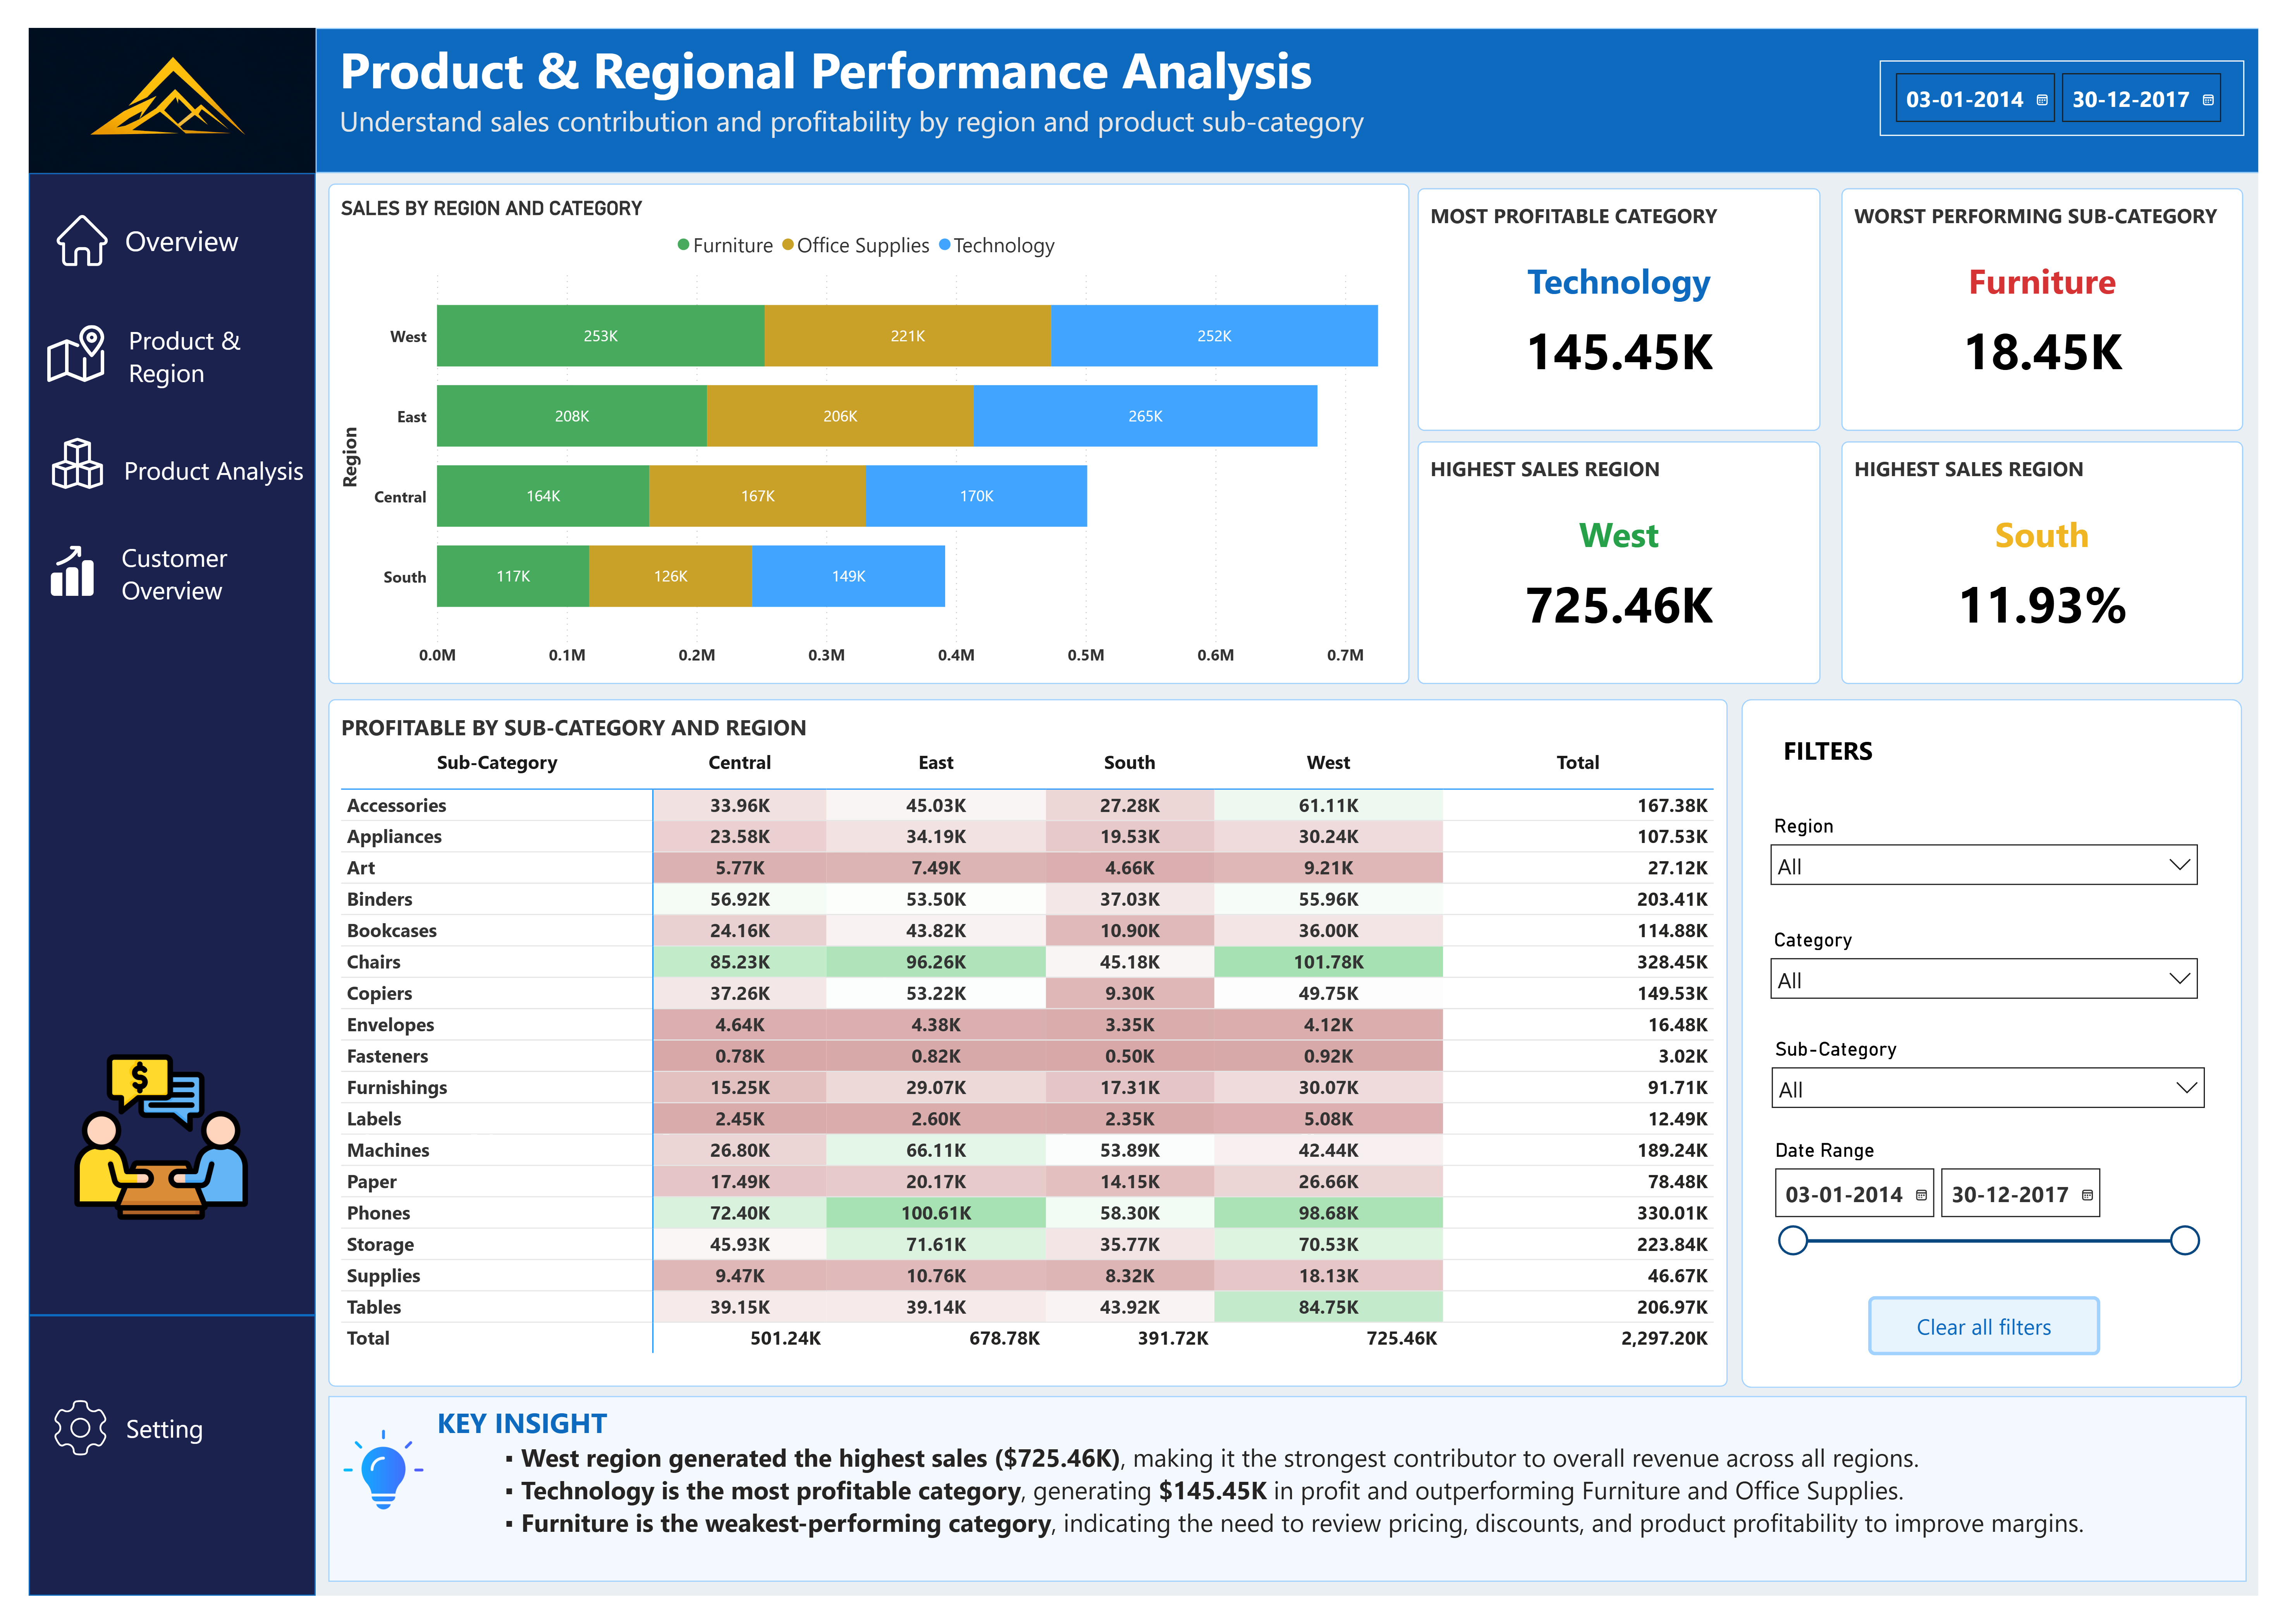

The dashboard page shown, as its layout file describes it:
{"tool":"powerbi","page":{"name":"ProductRegionalAnalysis","canvas":[1920,1350],"ordinal":1},"visuals":[{"type":"textbox","box":[247.2,0,1673.9,125.4],"z":0},{"type":"image","box":[7.2,256.4,67.2,49.1],"z":0,"group":"g2"},{"type":"image","box":[4,352.8,76.3,43.6],"z":0,"group":"g4"},{"type":"image","box":[5.5,443.5,65.4,49.1],"z":0,"group":"g3"},{"type":"textbox","box":[258.1,1178.3,1652.1,159.9],"z":0,"group":"g1"},{"type":"textbox","box":[81.3,249.1,172.7,76.3],"z":1000,"group":"g2"},{"type":"textbox","box":[76.7,360.7,174.5,56.3],"z":1000,"group":"g4"},{"type":"textbox","box":[76,436.2,171.2,85.4],"z":1000,"group":"g3"},{"type":"shape","box":[1475.4,578.1,430.4,592.7],"z":1000},{"type":"image","box":[266,1202,79.1,79.1],"z":1000,"group":"g1"},{"type":"barChart","title":"SALES BY REGION AND CATEGORY","fields":{"Y":["Sum(Superstore.Sales)"],"Category":["Superstore.Region"],"Series":["Superstore.Category"]},"box":[258.1,134.5,930.5,430.7],"z":2000},{"type":"slicer","fields":{"Values":["Superstore.Order Date"]},"box":[1490.8,951,387.5,160.2],"z":3000},{"type":"pivotTable","title":"PROFITABLE BY SUB-CATEGORY AND REGION","fields":{"Rows":["Superstore.Sub-Category"],"Columns":["Superstore.Region"],"Values":["Sum(Superstore.Sales)"]},"box":[258.1,578,1205,592.5],"z":4000},{"type":"cardVisual","title":"MOST PROFITABLE CATEGORY","fields":{"Data":["Sum(Superstore.Profit)"],"Rows":["Superstore.Category"]},"box":[1195.9,138.1,347.1,209],"z":5000},{"type":"cardVisual","title":"HIGHEST SALES REGION","fields":{"Data":["Sum(Superstore.Sales)"],"Rows":["Superstore.Region"]},"box":[1195.9,356.2,347.1,209],"z":6000},{"type":"cardVisual","title":"WORST PERFORMING SUB-CATEGORY","fields":{"Data":["Sum(Superstore.Profit)"],"Rows":["Superstore.Category"]},"box":[1561.2,138.1,345.3,209],"z":7000},{"type":"cardVisual","title":"HIGHEST SALES REGION","fields":{"Data":["Superstore.Profit Margin %"],"Rows":["Superstore.Region"]},"box":[1561.2,356.2,345.3,209],"z":8000},{"type":"image","box":[0,0,247.2,125.4],"z":9000},{"type":"slicer","fields":{"Values":["Superstore.Sub-Category"]},"box":[1490.8,864,393.5,83],"z":10000},{"type":"image","box":[6,161.3,80,43.6],"z":11000,"group":"g5"},{"type":"group","id":"g1","title":"Group 8","box":[258.1,1178.3,1652.1,159.9],"z":11000},{"type":"shape","box":[0,125,247.2,1225],"z":12000},{"type":"textbox","box":[77.5,161.5,145,49],"z":12002,"group":"g5"},{"type":"group","id":"g2","title":"Group 2","box":[7.2,249.1,246.8,76.3],"z":13000},{"type":"group","id":"g3","title":"Group 4","box":[5.5,436.2,241.7,85.4],"z":14000},{"type":"group","id":"g4","title":"Group 4","box":[4,352.8,247.2,64.2],"z":15000},{"type":"group","id":"g5","title":"Group 5","box":[6,161.3,216.5,49.2],"z":16000},{"type":"slicer","fields":{"Values":["Superstore.Region"]},"box":[1490.1,672.3,387.9,92.7],"z":17000},{"type":"slicer","fields":{"Values":["Superstore.Order Date"]},"box":[1593.6,27.7,314.4,65.2],"z":18000},{"type":"image","box":[19.8,879.8,187.8,150.3],"z":19000},{"type":"image","box":[19.8,1166.5,49.4,77.1],"z":20000},{"type":"textbox","box":[1506.1,602.4,155.9,74.7],"z":21000},{"type":"textbox","box":[73.2,1186.3,152.2,51.4],"z":22000},{"type":"shape","box":[0,1079.5,247.1,57.3],"z":23000},{"type":"slicer","fields":{"Values":["Superstore.Category"]},"box":[1490.1,770.4,387.9,86.9],"z":24000},{"type":"actionButton","box":[1584.3,1092.2,199.8,51.2],"z":25000}]}

Visuals, with their boxes in screenshot pixels (x1, y1, x2, y2), scaled from the page's 1920x1350 canvas onto the 2287x1624 screenshot:
textbox: (x1=294, y1=0, x2=2287, y2=151)
image: (x1=9, y1=308, x2=89, y2=368)
image: (x1=5, y1=425, x2=96, y2=477)
image: (x1=7, y1=533, x2=84, y2=593)
textbox: (x1=308, y1=1418, x2=2275, y2=1610)
textbox: (x1=97, y1=300, x2=303, y2=391)
textbox: (x1=91, y1=434, x2=299, y2=502)
textbox: (x1=91, y1=525, x2=294, y2=628)
shape: (x1=1757, y1=695, x2=2270, y2=1409)
image: (x1=317, y1=1446, x2=411, y2=1541)
"SALES BY REGION AND CATEGORY" barChart: (x1=308, y1=162, x2=1416, y2=680)
slicer - Superstore.Order Date: (x1=1776, y1=1144, x2=2237, y2=1337)
"PROFITABLE BY SUB-CATEGORY AND REGION" pivotTable: (x1=308, y1=695, x2=1743, y2=1408)
"MOST PROFITABLE CATEGORY" cardVisual: (x1=1424, y1=166, x2=1838, y2=418)
"HIGHEST SALES REGION" cardVisual: (x1=1424, y1=428, x2=1838, y2=680)
"WORST PERFORMING SUB-CATEGORY" cardVisual: (x1=1860, y1=166, x2=2271, y2=418)
"HIGHEST SALES REGION" cardVisual: (x1=1860, y1=428, x2=2271, y2=680)
image: (x1=0, y1=0, x2=294, y2=151)
slicer - Superstore.Sub-Category: (x1=1776, y1=1039, x2=2244, y2=1139)
image: (x1=7, y1=194, x2=102, y2=246)
"Group 8" group: (x1=308, y1=1418, x2=2275, y2=1610)
shape: (x1=0, y1=150, x2=294, y2=1624)
textbox: (x1=92, y1=194, x2=265, y2=253)
"Group 2" group: (x1=9, y1=300, x2=303, y2=391)
"Group 4" group: (x1=7, y1=525, x2=294, y2=628)
"Group 4" group: (x1=5, y1=425, x2=299, y2=502)
"Group 5" group: (x1=7, y1=194, x2=265, y2=253)
slicer - Superstore.Region: (x1=1775, y1=809, x2=2237, y2=920)
slicer - Superstore.Order Date: (x1=1898, y1=33, x2=2273, y2=112)
image: (x1=24, y1=1058, x2=247, y2=1239)
image: (x1=24, y1=1403, x2=83, y2=1496)
textbox: (x1=1794, y1=725, x2=1980, y2=815)
textbox: (x1=87, y1=1427, x2=268, y2=1489)
shape: (x1=0, y1=1299, x2=294, y2=1368)
slicer - Superstore.Category: (x1=1775, y1=927, x2=2237, y2=1031)
actionButton: (x1=1887, y1=1314, x2=2125, y2=1375)
